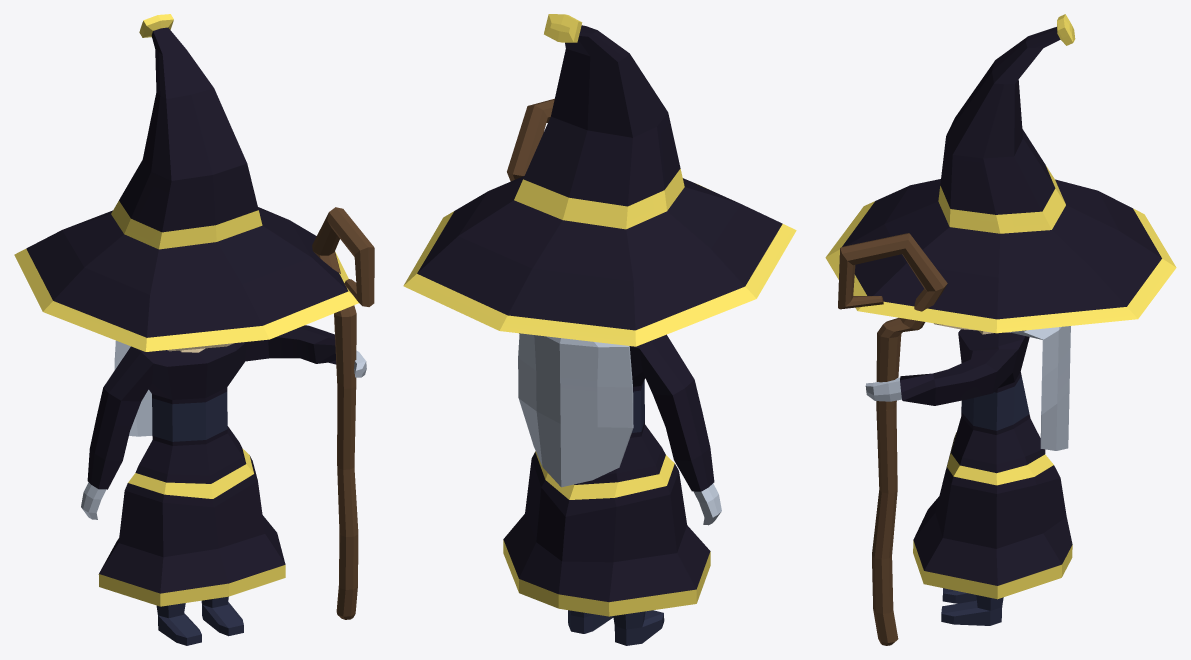
File: witch.fbx
3 views of the same model, side by side, from view 1: azimuth 30°, elevation 25°; view 2: azimuth 150°, elevation 25°; view 3: azimuth 270°, elevation 25° (orthographic). The views are drawn at different scales.
Visible parts, largest first — view 1: ChibiWitch, Cylinder; view 2: ChibiWitch, Cylinder; view 3: ChibiWitch, Cylinder.
Boxes of the visible parts, left/top/right/bottom form: ChibiWitch: left=14, top=14, right=366, bottom=645; Cylinder: left=312, top=207, right=374, bottom=619; ChibiWitch: left=403, top=14, right=796, bottom=645; Cylinder: left=507, top=98, right=554, bottom=181; ChibiWitch: left=825, top=14, right=1176, bottom=625; Cylinder: left=838, top=233, right=947, bottom=645.
Size of the model in its own units: 413 by 805 by 433.
